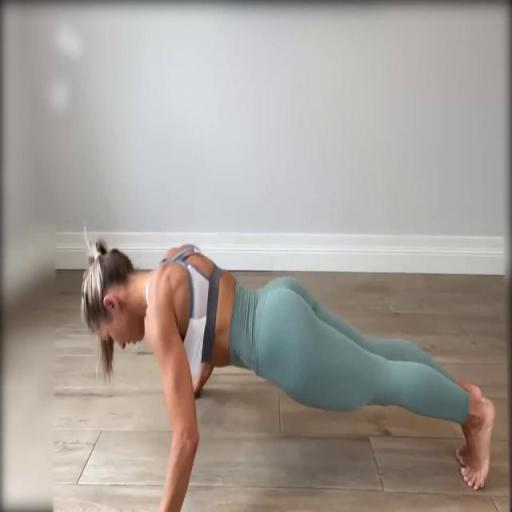Normal_Dips: (22, 223, 512, 512)
